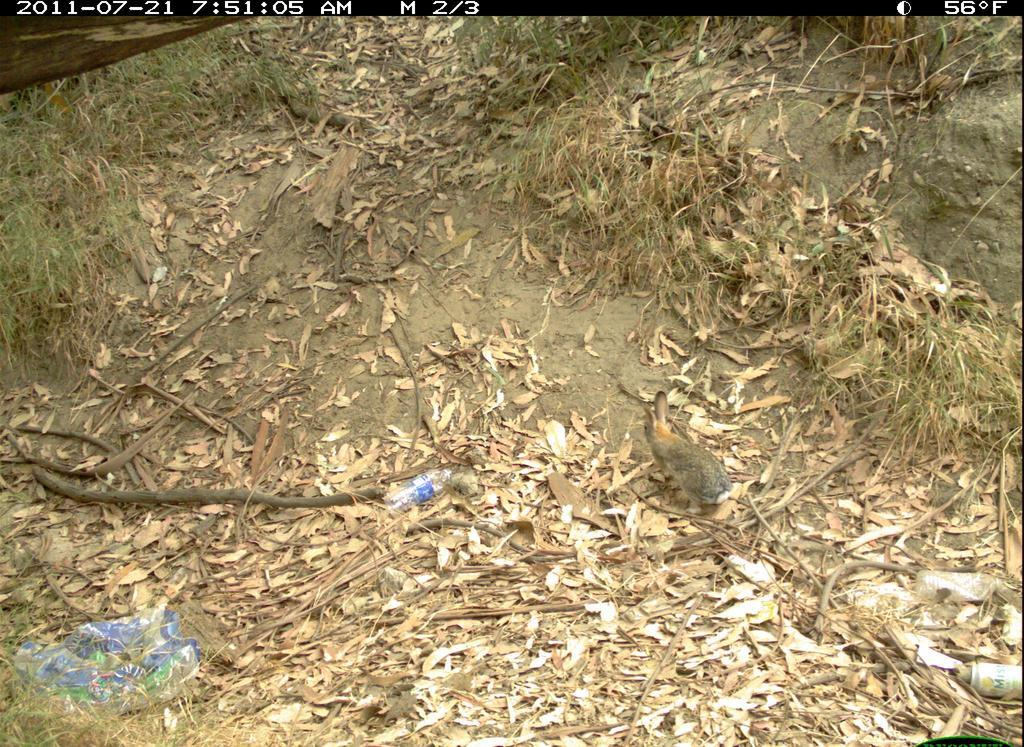rabbit: (637, 386, 743, 514)
